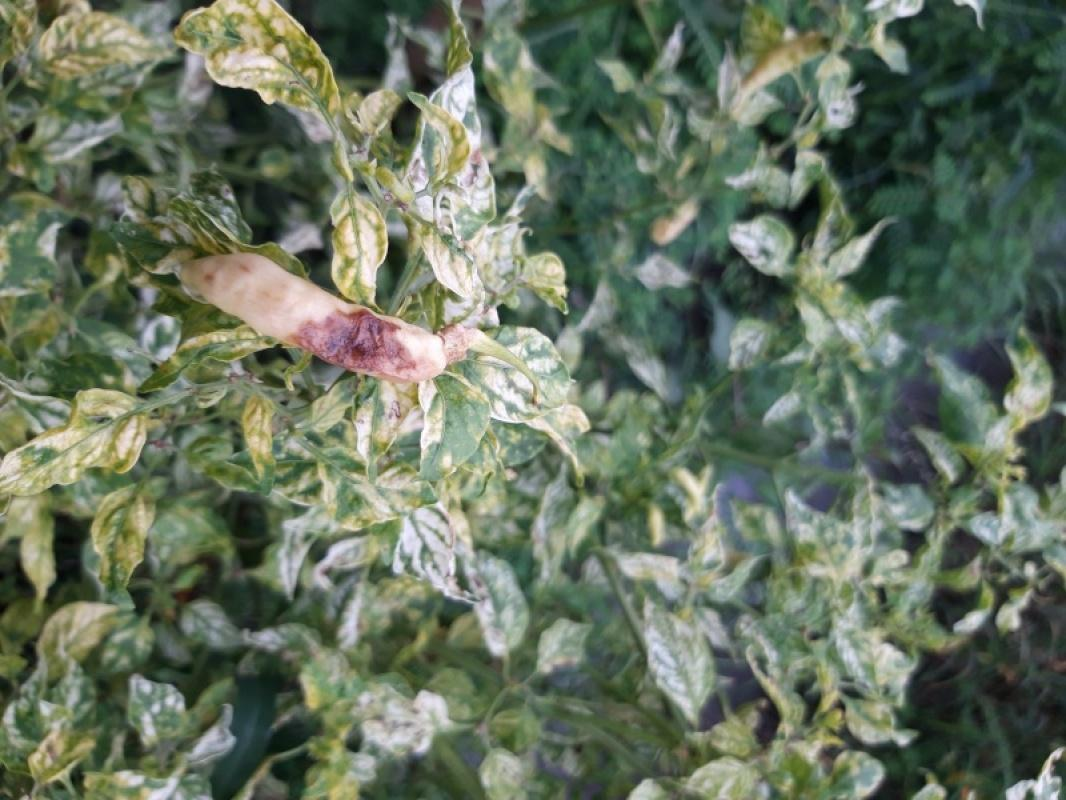antraknosa: (178, 254, 445, 389)
